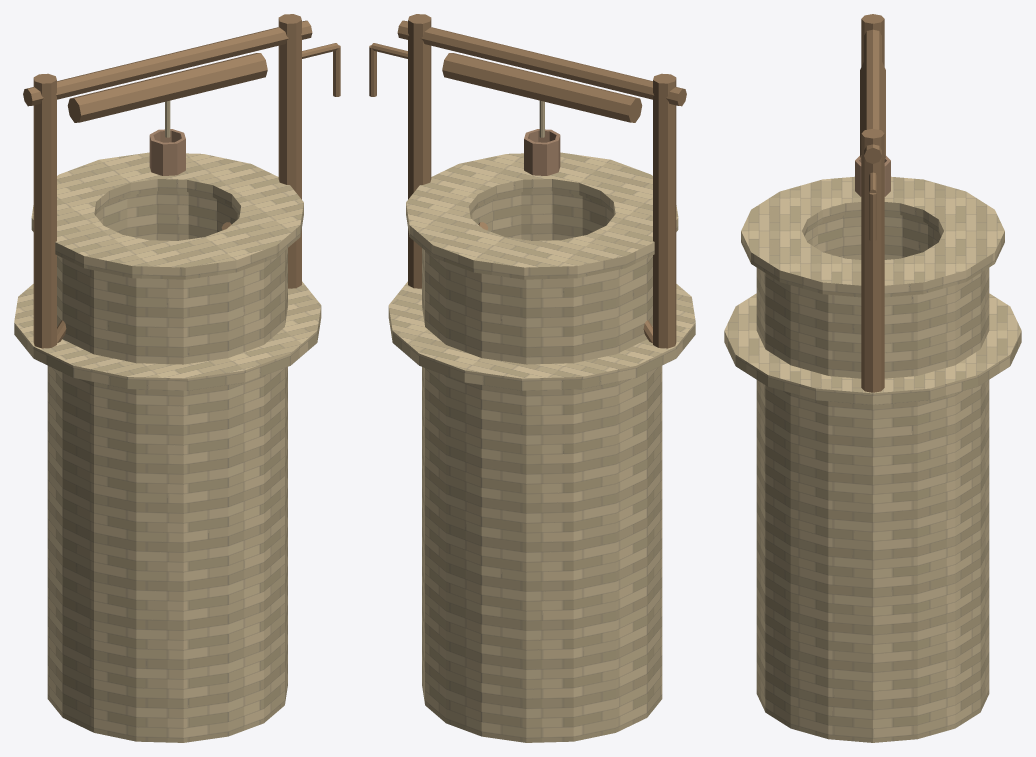
The model's file is uruk_well.glb.
3 views of the same model, side by side, from view 1: azimuth 30°, elevation 25°; view 2: azimuth 150°, elevation 25°; view 3: azimuth 270°, elevation 25° (orthographic). The views are drawn at different scales.
Parts seen in each view (by area): view 1: lining, parapet, frame, footing, windlass, bucket; view 2: lining, parapet, frame, footing, windlass, bucket; view 3: lining, parapet, footing, frame, windlass, bucket.
Boxes of the visible parts, x1,y1,x2,y2 form: lining: (47,366,287,742); parapet: (31,152,303,364); frame: (23,14,312,348); footing: (14,281,321,390); windlass: (67,43,340,122); bucket: (149,129,185,175); lining: (422,366,662,742); parapet: (406,152,678,364); frame: (397,14,686,348); footing: (388,281,695,390); windlass: (369,43,642,122); bucket: (524,129,560,175); lining: (756,380,989,742); parapet: (741,176,1004,378); footing: (724,293,1021,404); frame: (861,14,884,392); windlass: (860,62,885,241); bucket: (855,156,890,196).
Bounding box in the file's own units: 2.68 × 5.27 × 2.3.
5 materials, 1 textured.
